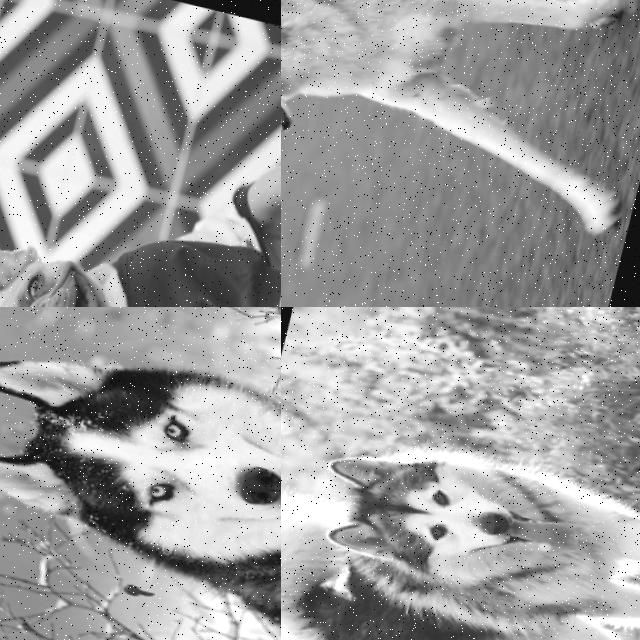bulldog: (0, 197, 161, 307)
husky: (0, 314, 281, 640), (298, 420, 610, 622), (281, 0, 366, 174)
